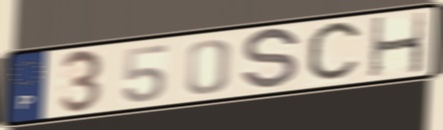0: (183, 37, 233, 96)
3: (58, 46, 107, 116)
5: (121, 41, 169, 104)
C: (304, 17, 366, 87)
H: (368, 10, 428, 80)
S: (239, 25, 303, 94)
